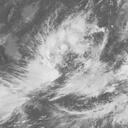cyclone: (35, 31, 107, 100)
